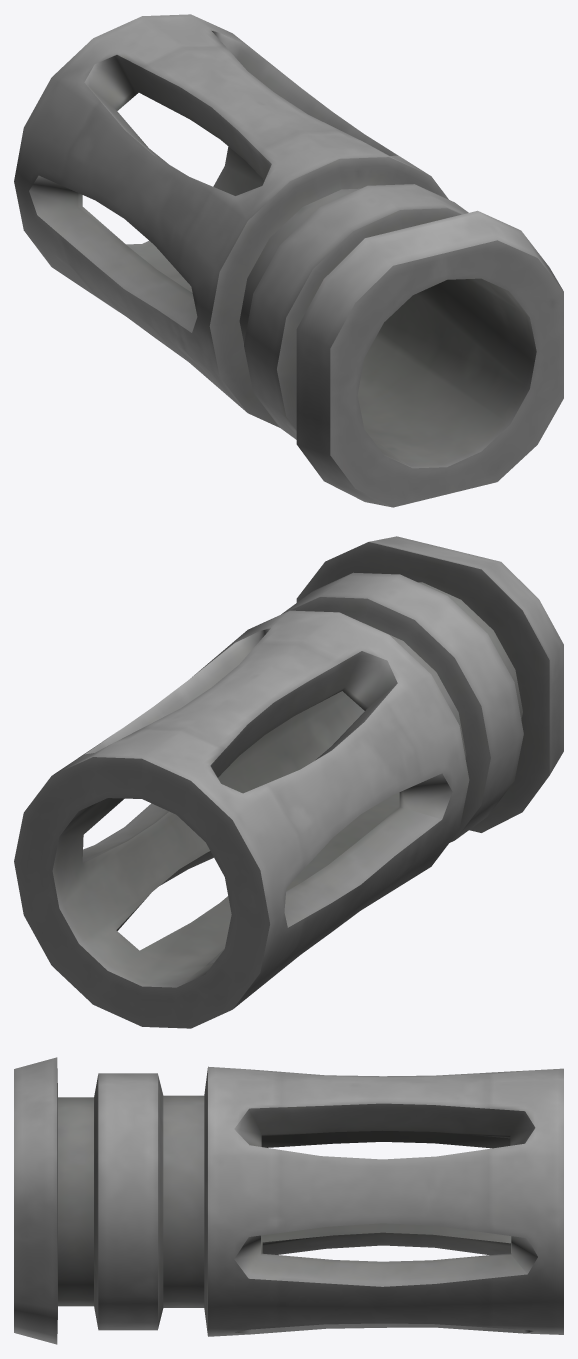
File: IG_Acc_Muzzle_AR_SCA_1.fbx
The picture shows the model from 3 angles, top to bottom: view 1: azimuth 30°, elevation 25°; view 2: azimuth 150°, elevation 25°; view 3: azimuth 270°, elevation 25°; orthographic projection. The views are drawn at different scales.
Visible parts, largest first — view 1: Muzzle_AR_SCA_1; view 2: Muzzle_AR_SCA_1; view 3: Muzzle_AR_SCA_1.
Boxes of the visible parts, bbox=[...] form: Muzzle_AR_SCA_1: bbox=[14, 14, 563, 507]; Muzzle_AR_SCA_1: bbox=[14, 536, 563, 1028]; Muzzle_AR_SCA_1: bbox=[14, 1057, 563, 1344].
Size of the model in its own units: 0.0687 by 0.0687 by 0.1397.
